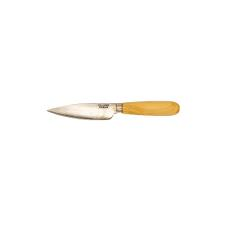Knife: (46, 100, 180, 120)
